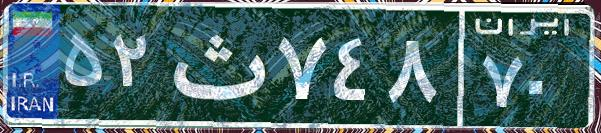0: (525, 38, 570, 115)
2: (110, 28, 158, 105)
4: (330, 28, 385, 110)
5: (57, 26, 110, 107)
7: (273, 28, 330, 110), (475, 38, 525, 113)
8: (385, 28, 445, 110)
ث: (158, 15, 273, 115)
